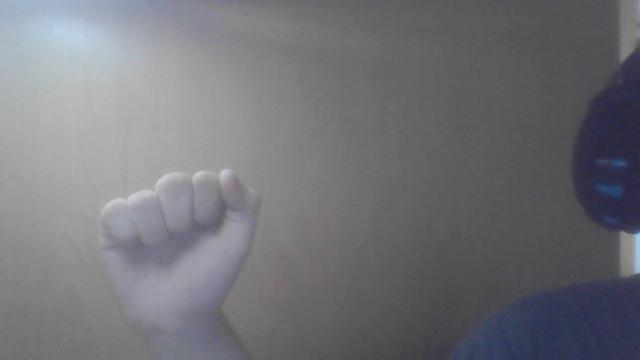forward: (98, 167, 262, 358)
